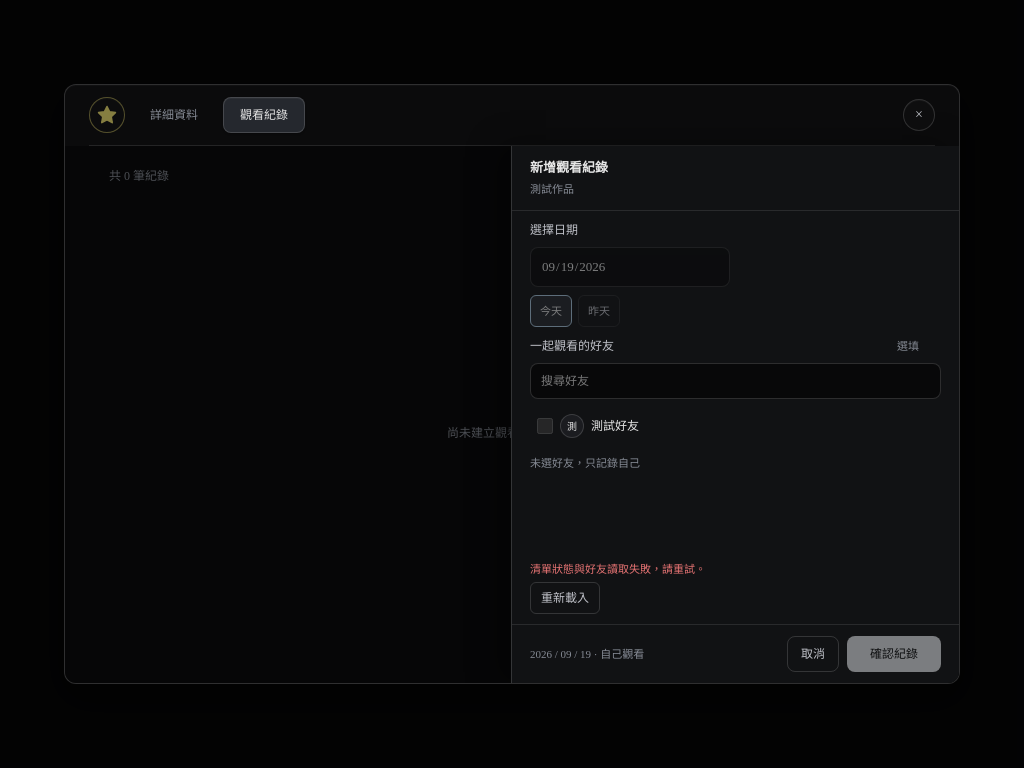
好友快取命中時，重試清單狀態仍維持載入及防重複操作直到請求完成
Expected: the dialog named "重試清單狀態與好友" is shown, x1=511 y1=146 x2=959 y2=683
Click the button with aria-label "重試清單狀態與好友". click: (565, 598)
box: x1=530 y1=582 x2=600 y2=614
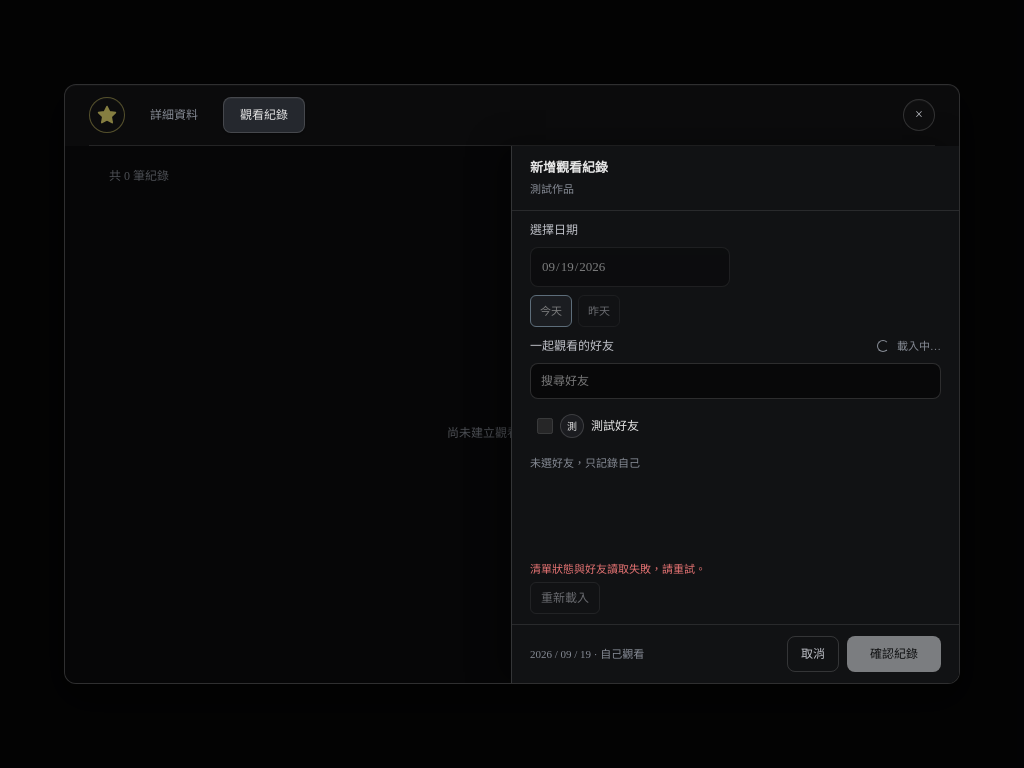
Expected: the button with aria-label "重試清單狀態與好友" is disabled
Expected: the number of elements with class "watch-spinner" is 1, x1=877 y1=340 x2=889 y2=352
Click the button with aria-label "重試清單狀態與好友". click: (565, 598)
box: x1=530 y1=582 x2=600 y2=614
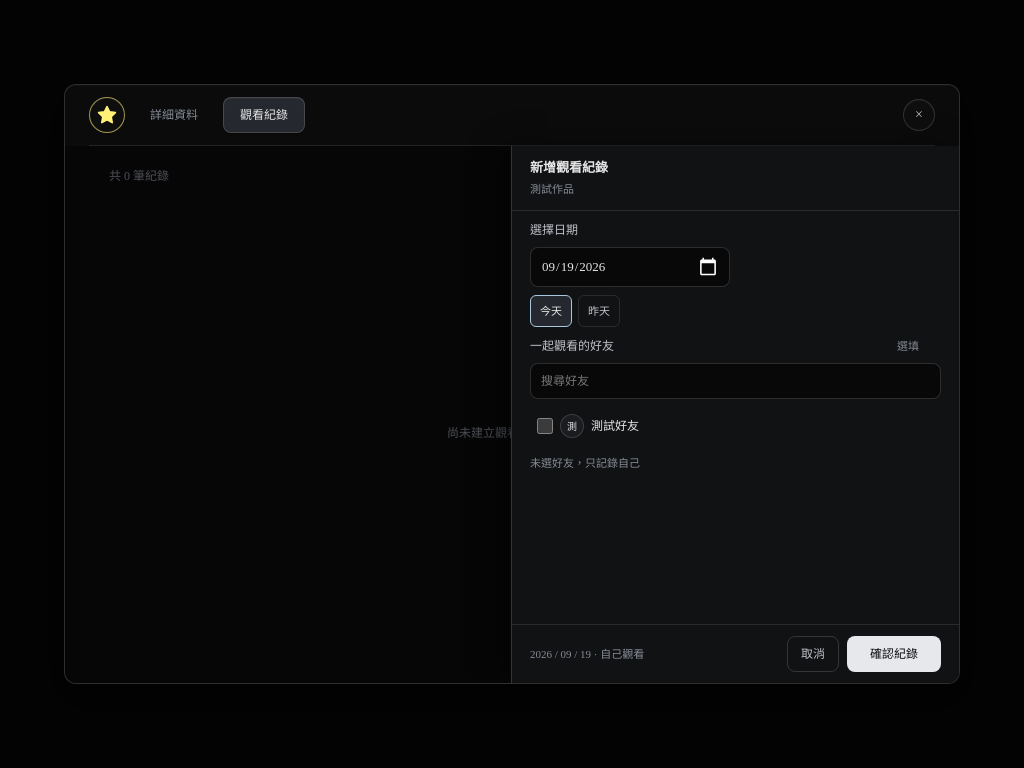
Expected: the button named "重試清單狀態與好友" is gone
Expected: the text "清單狀態與好友讀取失敗" is gone
Expected: the button "確認紀錄" is enabled, x1=847 y1=636 x2=941 y2=672
